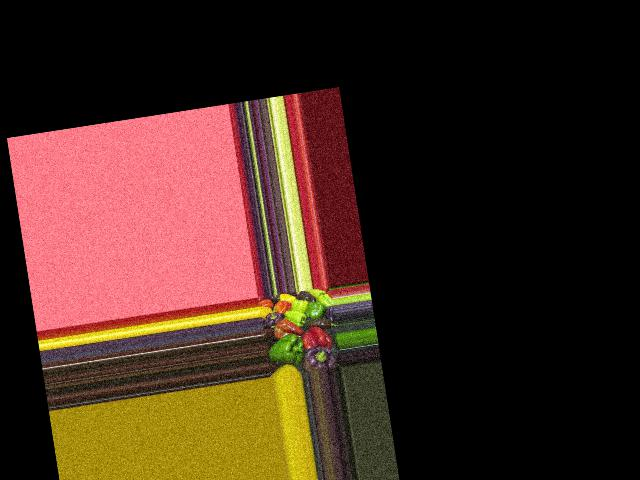bell_pepper: (261, 308, 284, 328)
